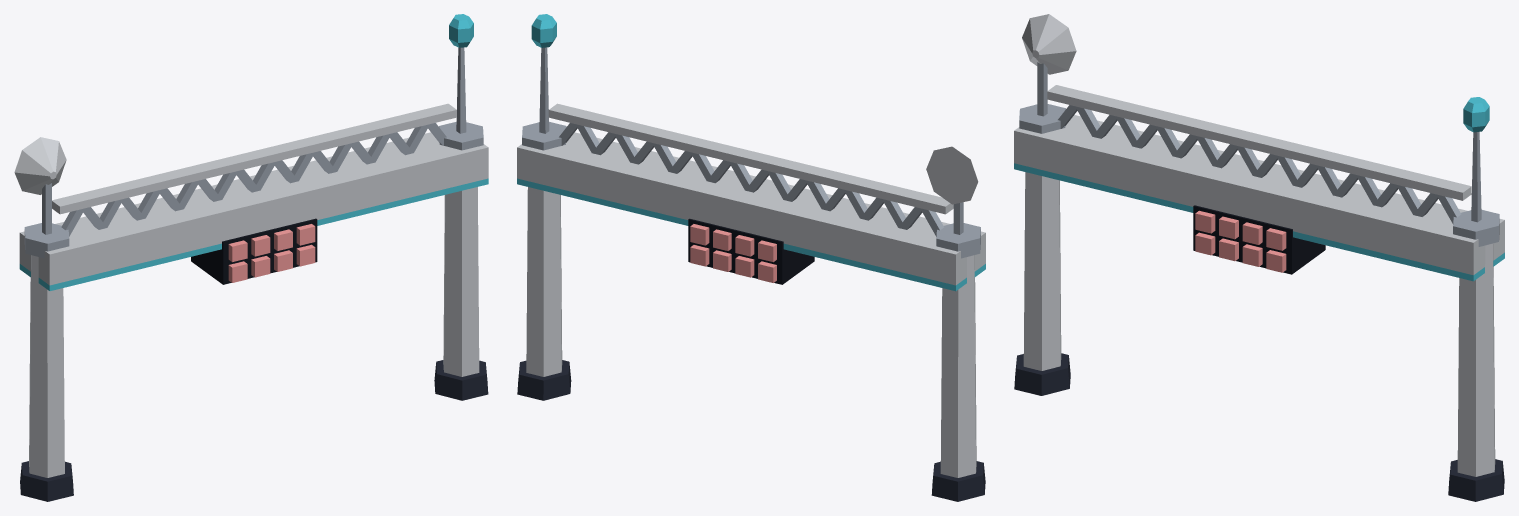
The model's file is gantry.glb.
The picture shows the model from 3 angles, left to right: view 1: azimuth 30°, elevation 25°; view 2: azimuth 150°, elevation 25°; view 3: azimuth 330°, elevation 25°; orthographic projection. The views are drawn at different scales.
Parts seen in each view (by area): view 1: moon-gantry, lamps; view 2: moon-gantry, lamps; view 3: moon-gantry, lamps.
Part boxes in pixels (x1,y1,x2,y2): moon-gantry: [14, 14, 488, 501]; lamps: [228, 224, 315, 282]; moon-gantry: [517, 14, 985, 501]; lamps: [690, 224, 776, 282]; moon-gantry: [1014, 14, 1504, 501]; lamps: [1195, 210, 1286, 272].
Bounding box in the file's own units: 1.26 × 0.955 × 0.184.
